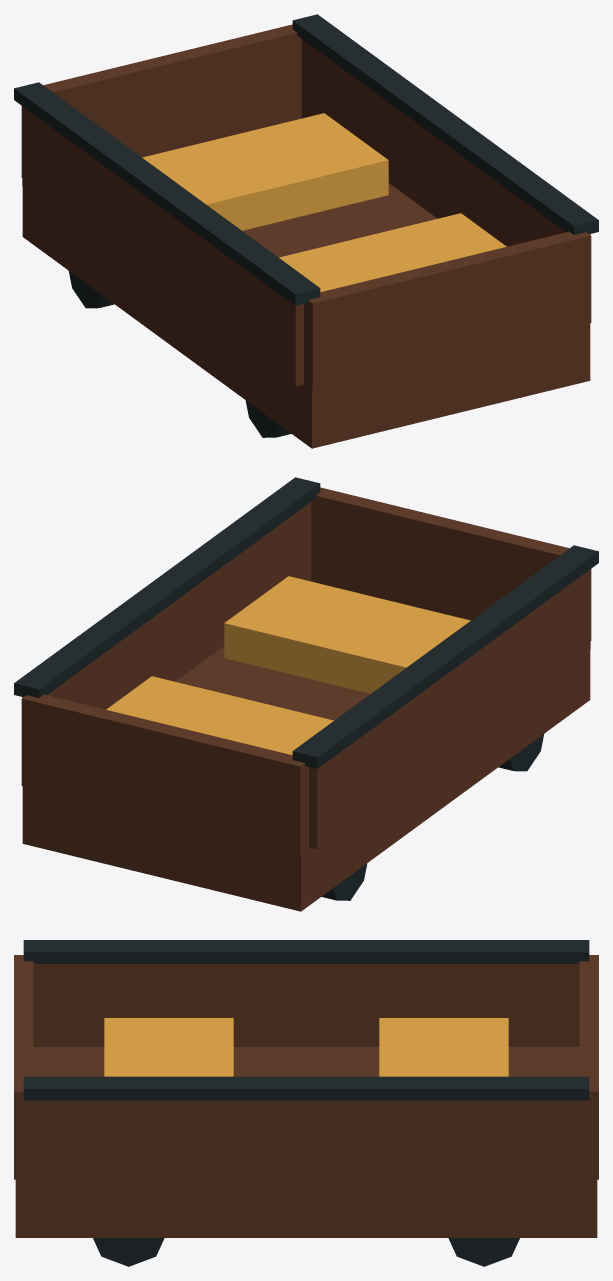
The model's file is ParkParkMineCar.obj.
The picture shows the model from 3 angles, top to bottom: view 1: azimuth 30°, elevation 25°; view 2: azimuth 150°, elevation 25°; view 3: azimuth 270°, elevation 25°; orthographic projection.
Parts seen in each view (by area): view 1: ParkParkMineCar; view 2: ParkParkMineCar; view 3: ParkParkMineCar.
Boxes of the visible parts, <box> form: ParkParkMineCar: <box>14,14,598,448</box>; ParkParkMineCar: <box>14,477,598,911</box>; ParkParkMineCar: <box>14,940,598,1266</box>.
Size of the model in its own units: 2.18 by 1.28 by 3.62.
